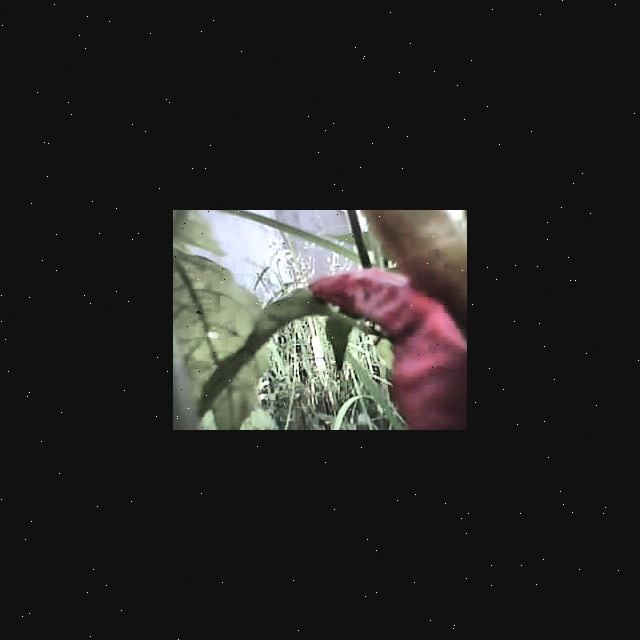Cabai: (323, 267, 463, 407)
